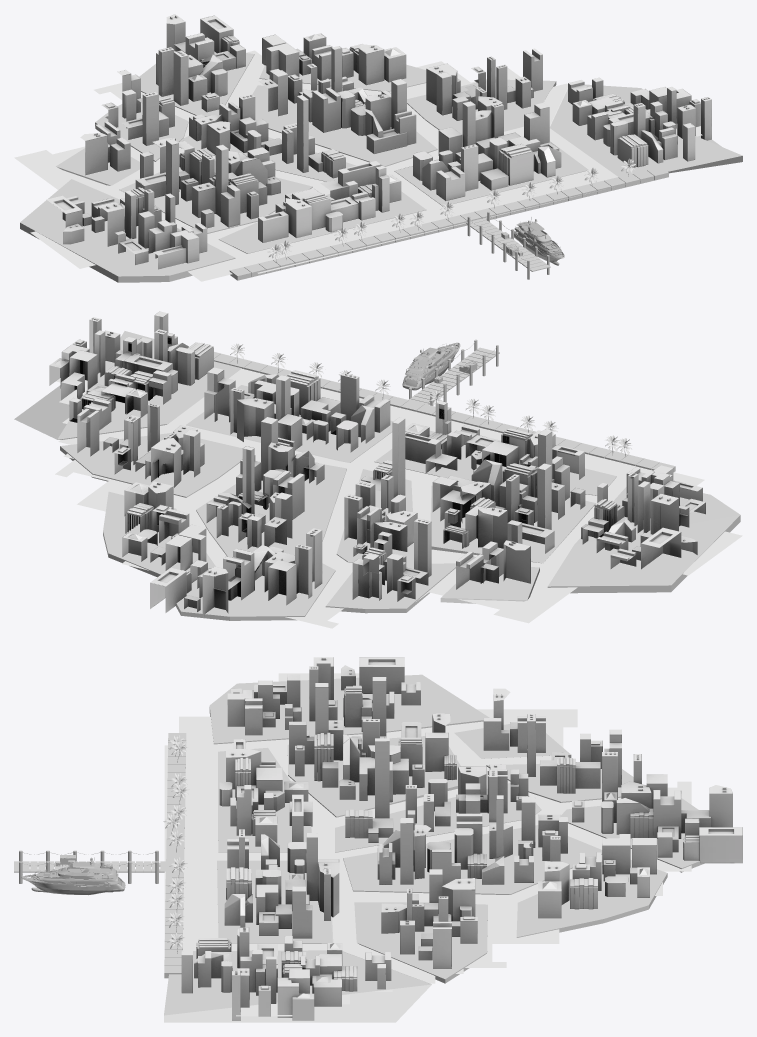
Rendered from city5.3_opt.glb.
3 renders of one model, top to bottom at view 1: azimuth 30°, elevation 25°; view 2: azimuth 150°, elevation 25°; view 3: azimuth 270°, elevation 25°, orthographic. The views are drawn at different scales.
Visible parts, largest first — view 1: floor, city.002, city.001, city.005, city, city.004, city.003, city.008, Plane.004, city.011, Plane.001, city.009 (+18 smaller); view 2: floor, city.005, city.001, city.002, city.004, city, city.008, Plane.004, city.003, city.011, city.010, city.009 (+18 smaller); view 3: floor, city.001, city.005, city, city.008, city.002, city.004, Plane.011, city.011, city.009, city.003, city.010 (+18 smaller).
Boxes of the visible parts, box(x1,y1,x2,y2) form: floor: box(14, 50, 702, 281); city.002: box(413, 101, 561, 200); city.001: box(525, 77, 711, 167); city.005: box(135, 138, 280, 228); city: box(259, 46, 416, 153); city.004: box(46, 187, 207, 269); city.003: box(258, 160, 401, 242); city.008: box(156, 14, 245, 112); Plane.004: box(20, 179, 235, 282); city.011: box(189, 94, 345, 178); Plane.001: box(229, 167, 668, 280); city.009: box(262, 33, 406, 85); floor: box(55, 361, 742, 628); city.005: box(432, 429, 585, 553); city.001: box(49, 311, 213, 430); city.002: box(204, 367, 390, 452); city.004: box(581, 465, 705, 569); city: box(206, 417, 324, 548); city.008: box(150, 528, 322, 617); Plane.004: box(547, 487, 740, 593); city.003: box(405, 400, 584, 479); city.011: box(344, 417, 417, 558); city.010: box(77, 403, 204, 487); city.009: box(122, 481, 206, 570); floor: box(164, 673, 691, 1016); city.001: box(181, 927, 391, 1020); city.005: box(289, 677, 456, 802); city: box(377, 795, 567, 885); city.008: box(572, 752, 742, 863); city.002: box(224, 829, 339, 938); city.004: box(227, 657, 420, 735); Plane.011: box(164, 950, 431, 1022); city.011: box(345, 738, 528, 842); city.009: box(538, 834, 656, 918); city.003: box(219, 739, 312, 846); city.010: box(381, 869, 477, 968).
Bounding box in the file's own units: 39.05 × 5.01 × 34.92.
6 materials, 1 textured.
